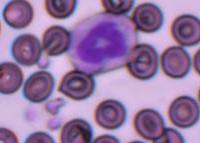N: (66, 11, 137, 74)
